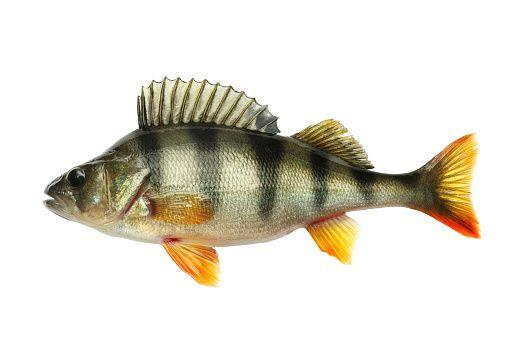Perch: (40, 75, 482, 288)
